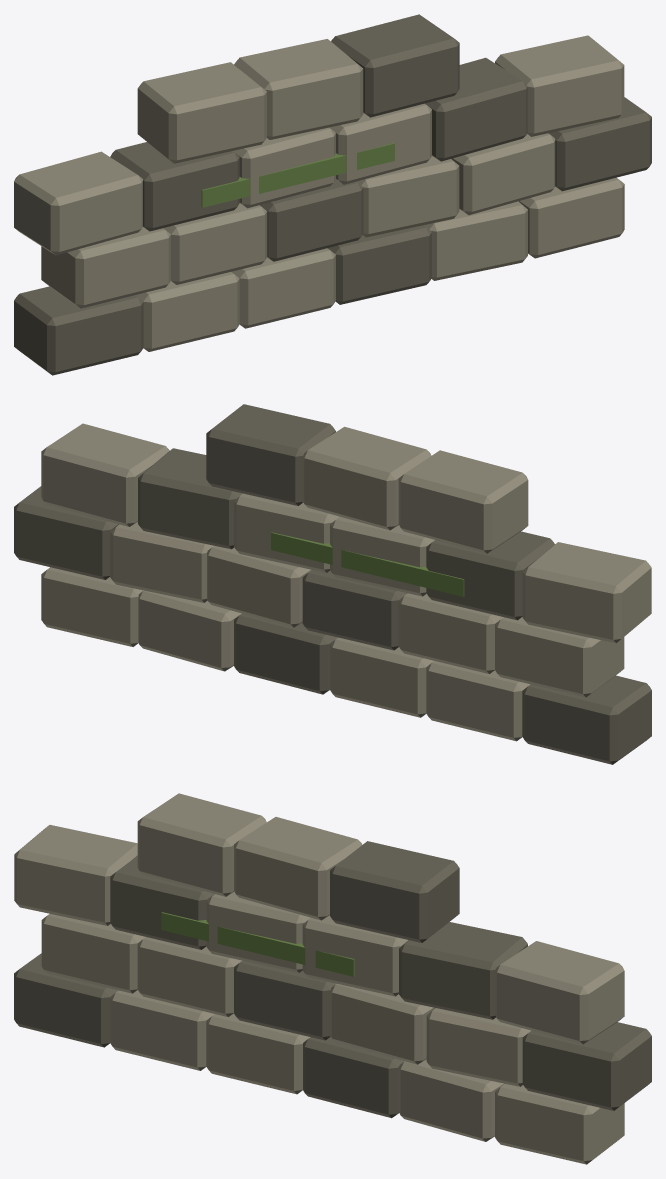
The model's file is ruins_wall.glb.
3 views of the same model, one above another, from view 1: azimuth 30°, elevation 25°; view 2: azimuth 150°, elevation 25°; view 3: azimuth 330°, elevation 25° (orthographic).
Visible parts, largest first — view 1: RuinsWall; view 2: RuinsWall; view 3: RuinsWall.
Boxes of the visible parts, left/top/right/bottom form: RuinsWall: left=14, top=14, right=651, bottom=375; RuinsWall: left=14, top=404, right=651, bottom=764; RuinsWall: left=14, top=793, right=651, bottom=1164.
Size of what is drawn, in the model's own units: 4.42 by 1.66 by 0.5406.
